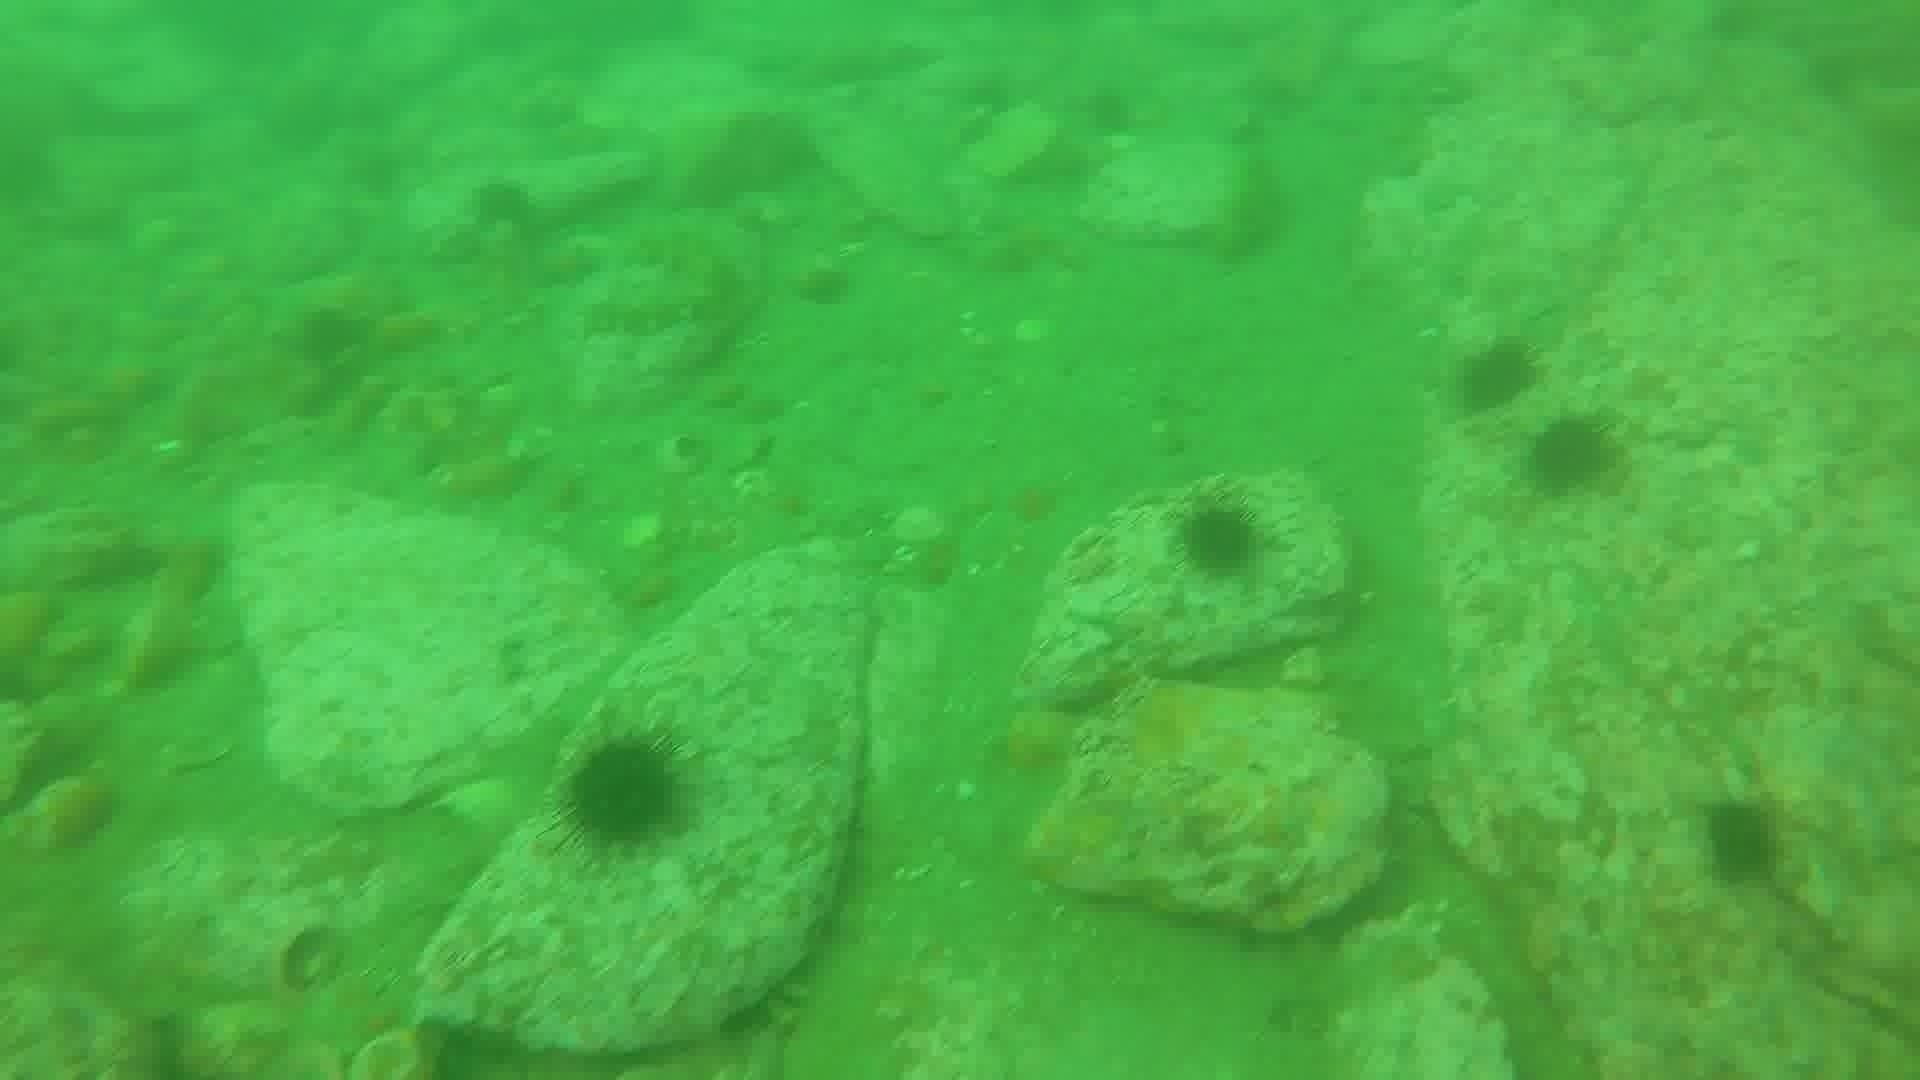echinus: (551, 727, 692, 858), (1522, 410, 1622, 498), (1696, 795, 1785, 889), (1170, 498, 1267, 584), (1451, 335, 1544, 418), (291, 302, 373, 371), (465, 174, 538, 237)
